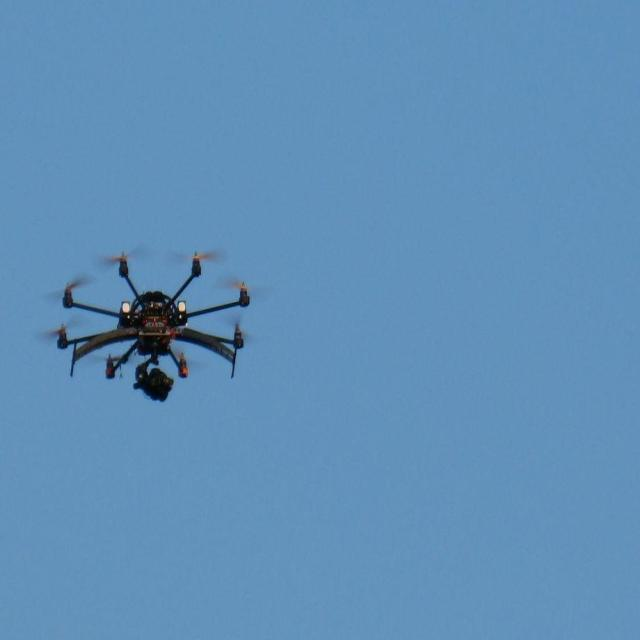drone: (56, 248, 250, 403)
